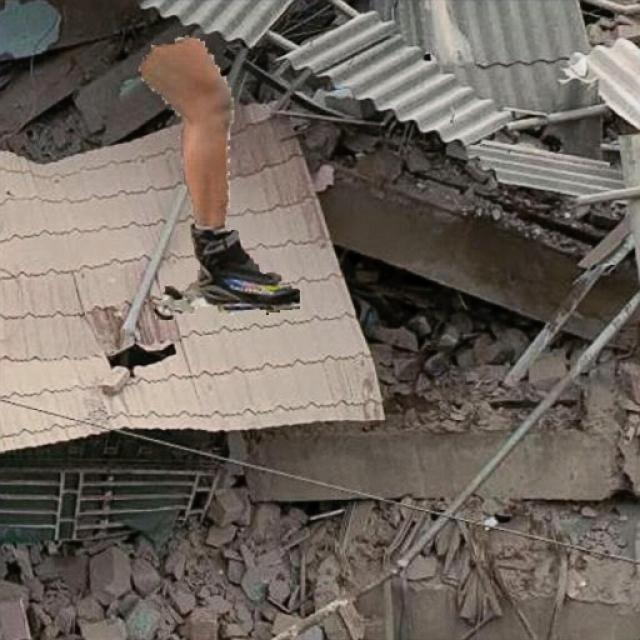Person in Rubble: (139, 35, 299, 319)
